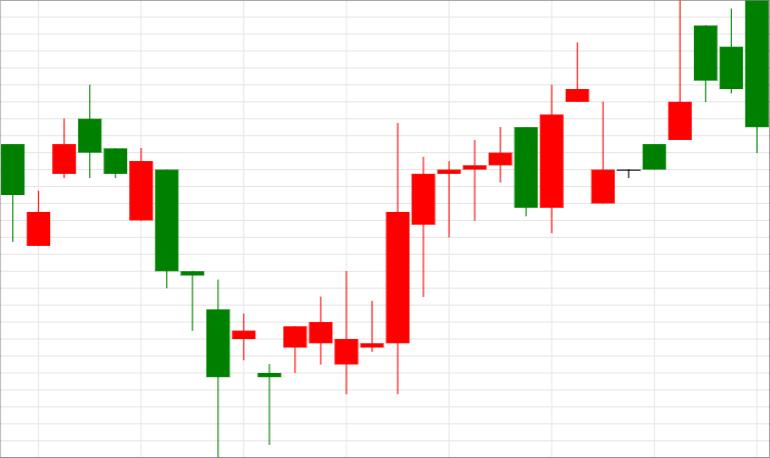shooting_star_fall: (540, 0, 691, 234)
